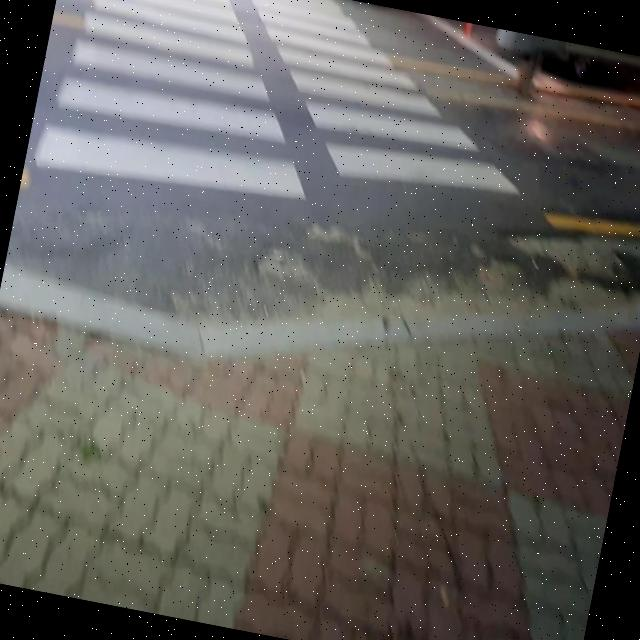crosswalk: (27, 0, 534, 224)
